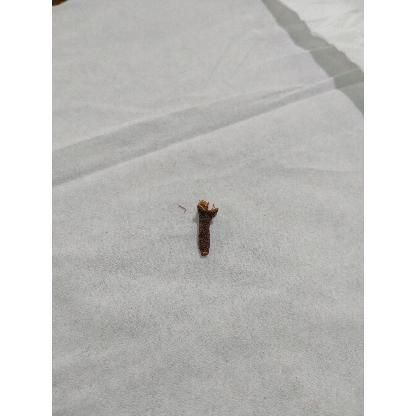buruk: (196, 200, 219, 259)
